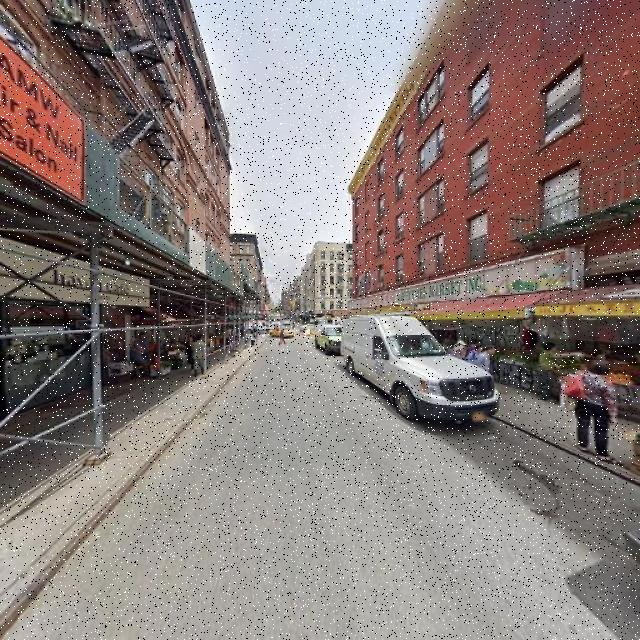Building: (355, 1, 640, 424), (1, 1, 229, 404)
